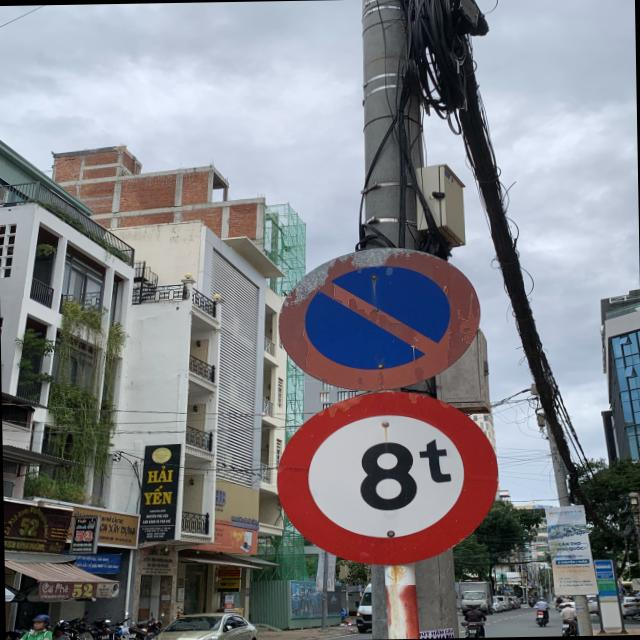Cam_Dau_Xe: (276, 248, 484, 389)
